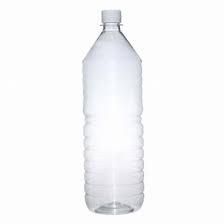pet: (67, 7, 159, 220)
